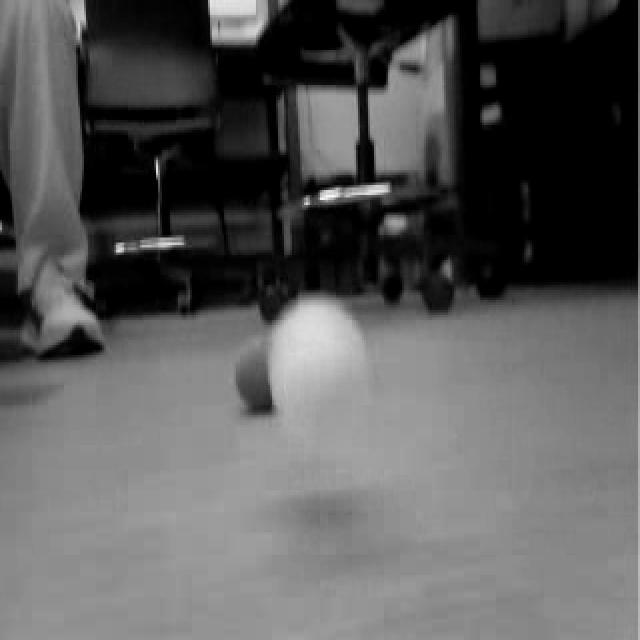ping-pong-ball: (269, 293, 372, 431), (232, 333, 276, 411)
